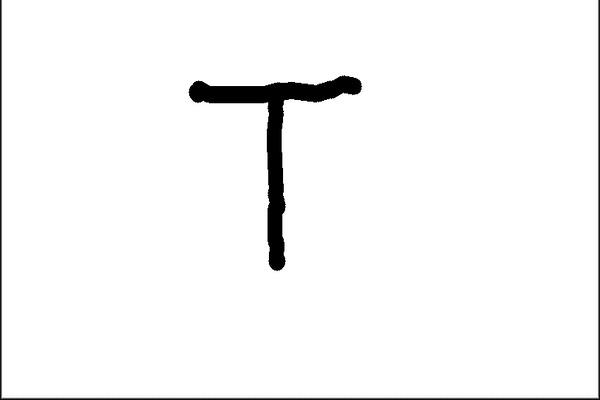T: (186, 64, 367, 272)
